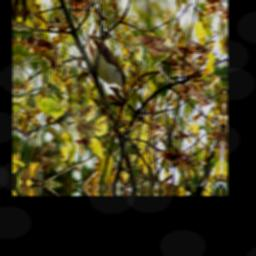Cuckoo: (86, 27, 132, 99)
